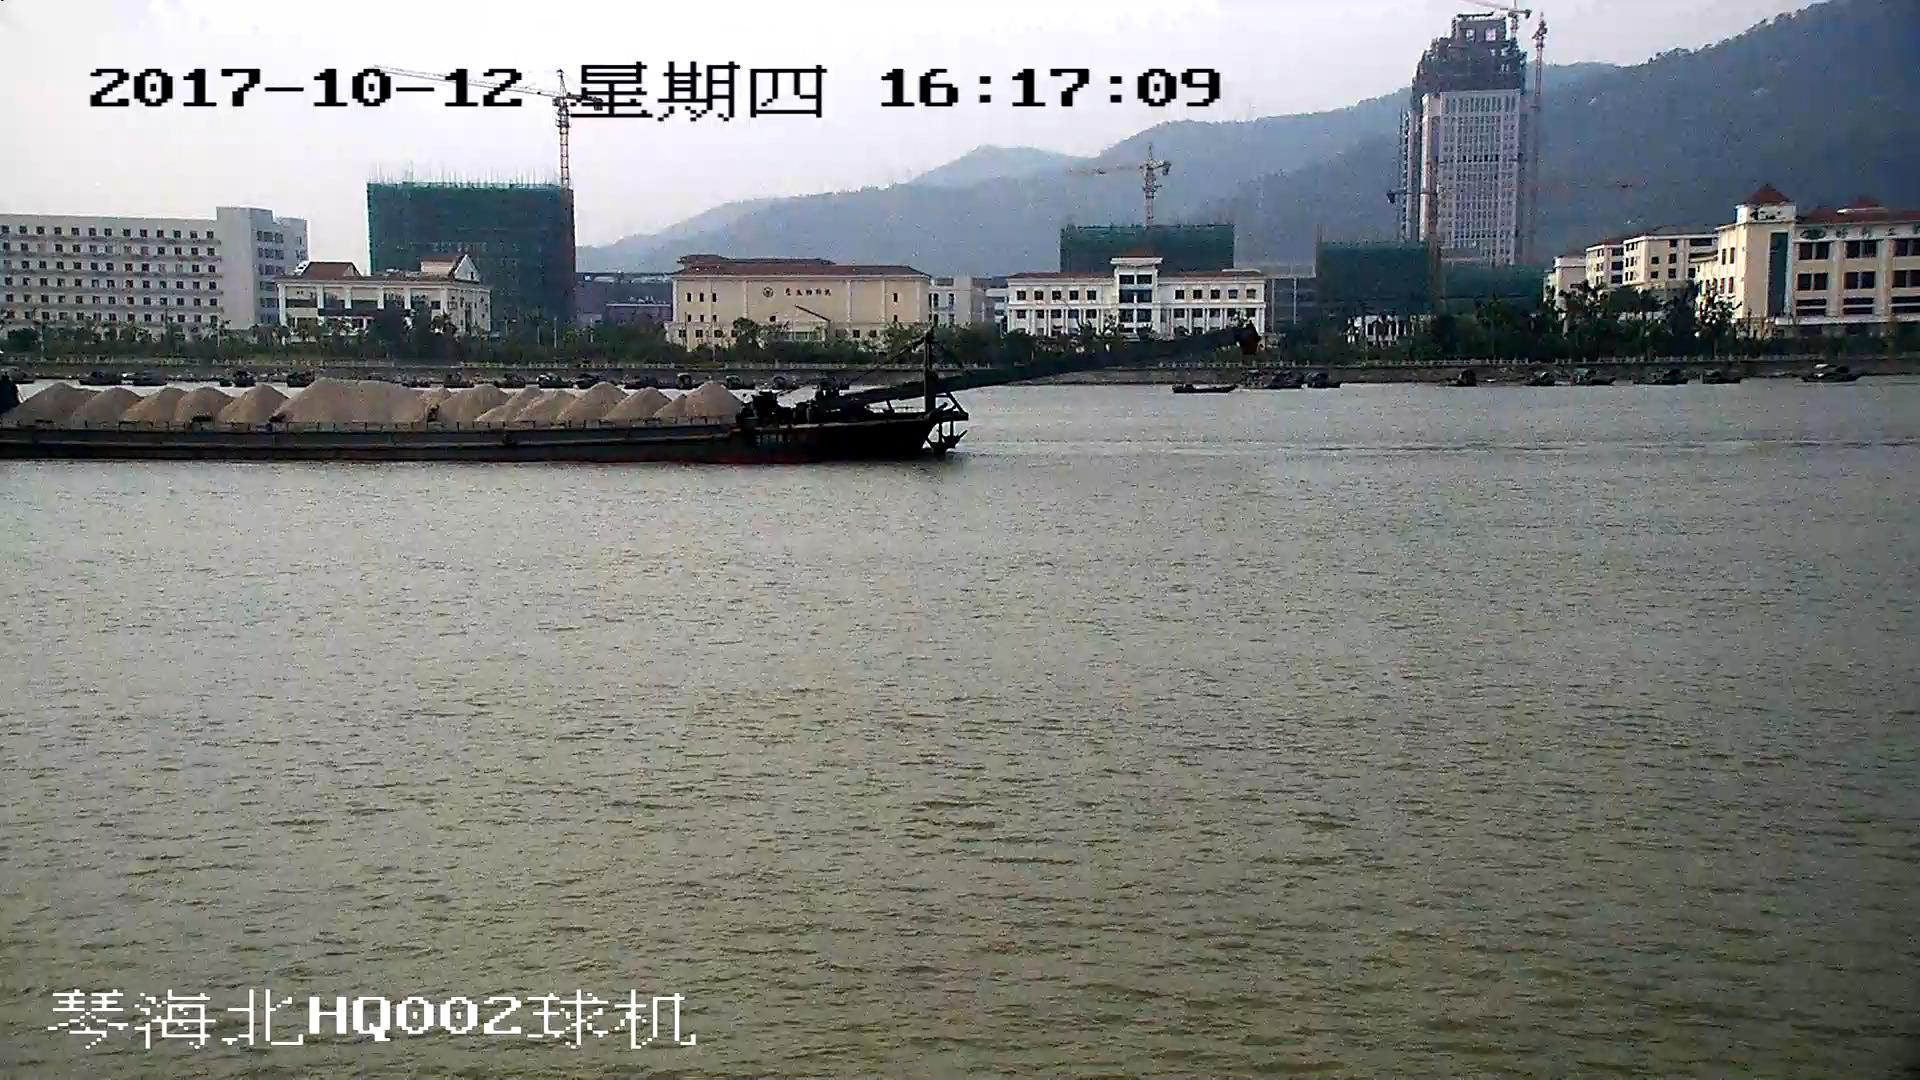ore carrier: (1, 323, 1253, 466)
